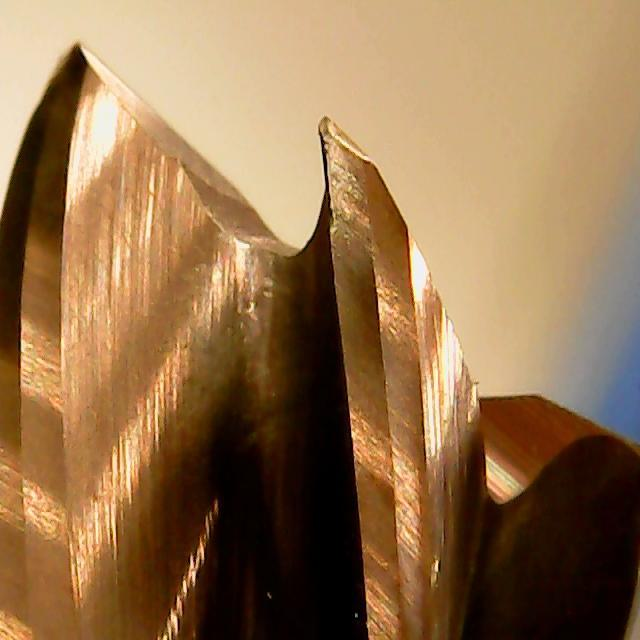Tool-wear-class-1: (303, 110, 428, 443)
